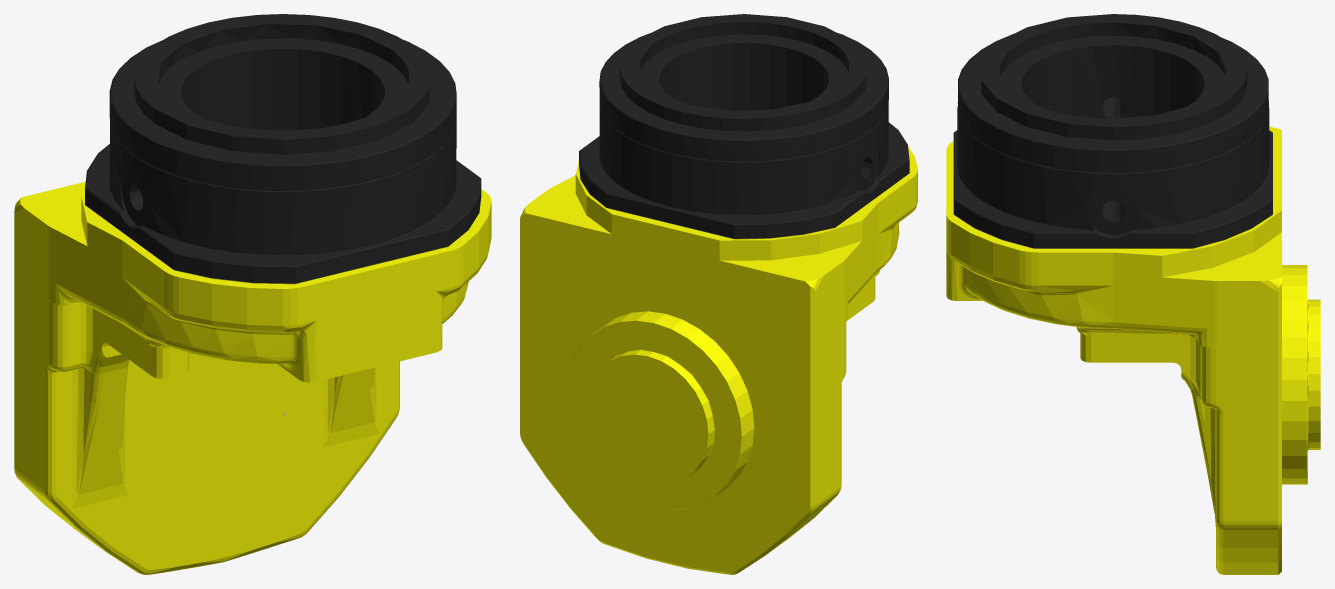
3 renders of one model, left to right at view 1: azimuth 30°, elevation 25°; view 2: azimuth 150°, elevation 25°; view 3: azimuth 270°, elevation 25°, orthographic. The views are drawn at different scales.
Parts seen in each view (by area): view 1: node; view 2: node; view 3: node.
Part boxes in pixels (box(x1,y1,x2,y2)): node: box(14, 14, 491, 574); node: box(520, 14, 917, 574); node: box(946, 14, 1320, 574).
Bounding box in the file's own units: 100 × 143 × 102.
